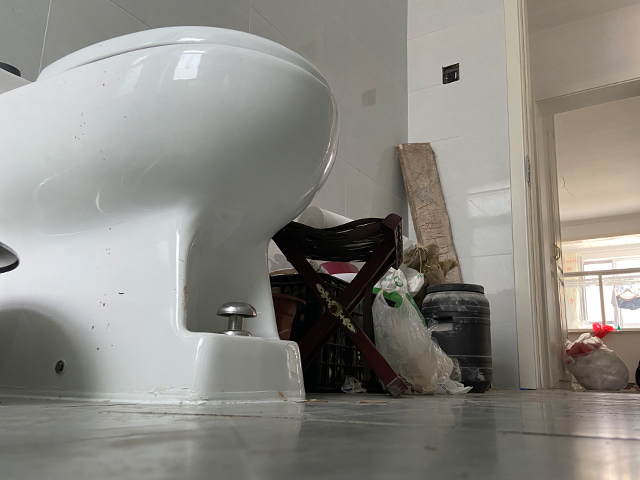closestool: (1, 24, 341, 406)
stool: (270, 214, 408, 398)
